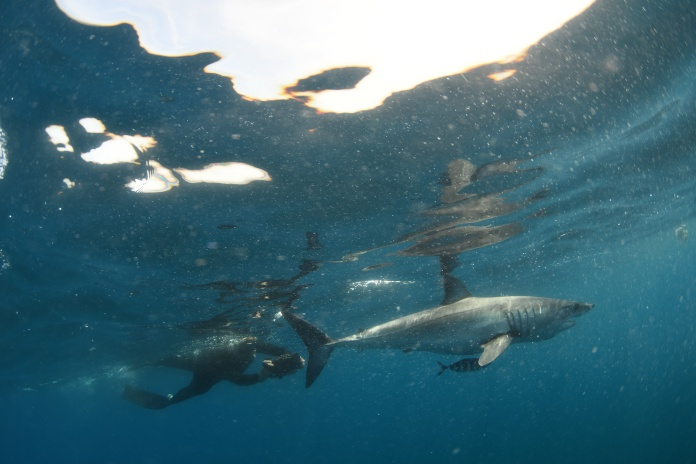Mako: (269, 269, 598, 400)
